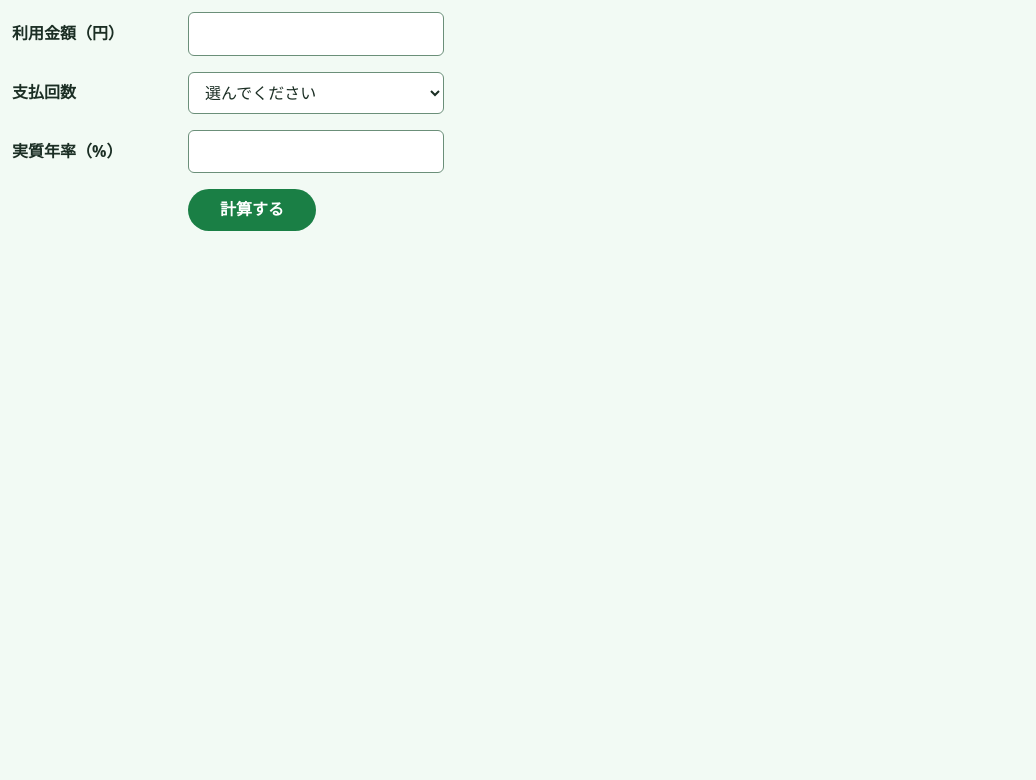
Scenario: 実行すると、要約の下に返済表を表示する
Type "100000" into the field labelled "利用金額（円）" at [316, 34], box [188,12,444,56]
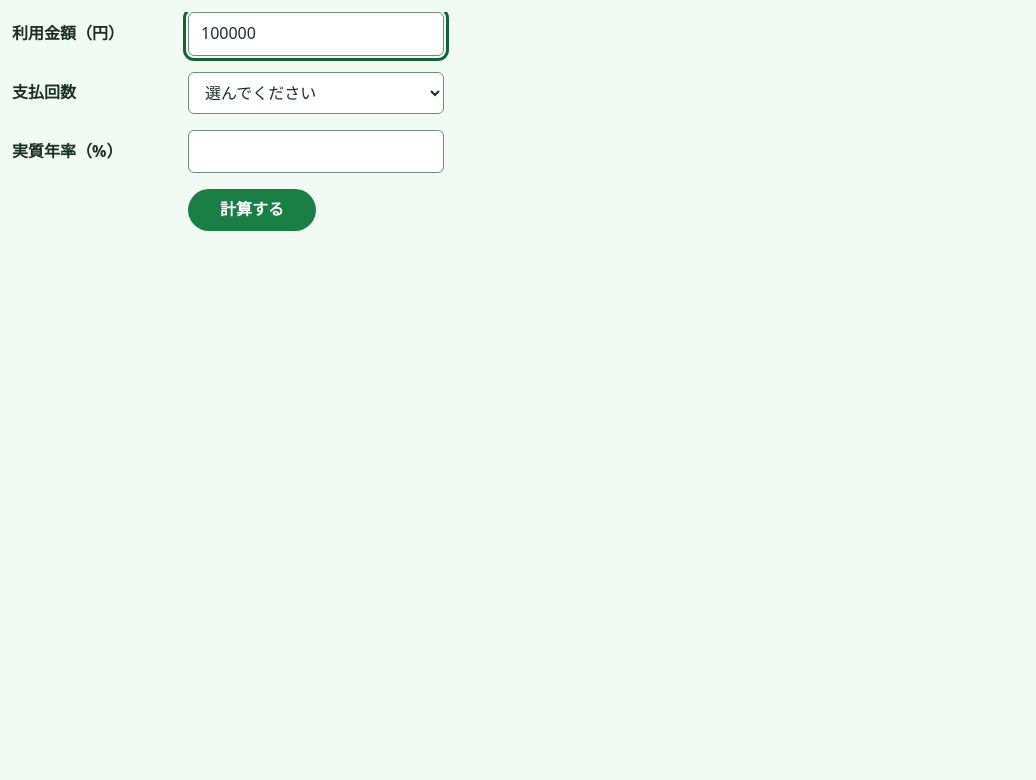
Select "12回" in the dropdown labelled "支払回数" at [316, 93], box [188,72,444,114]
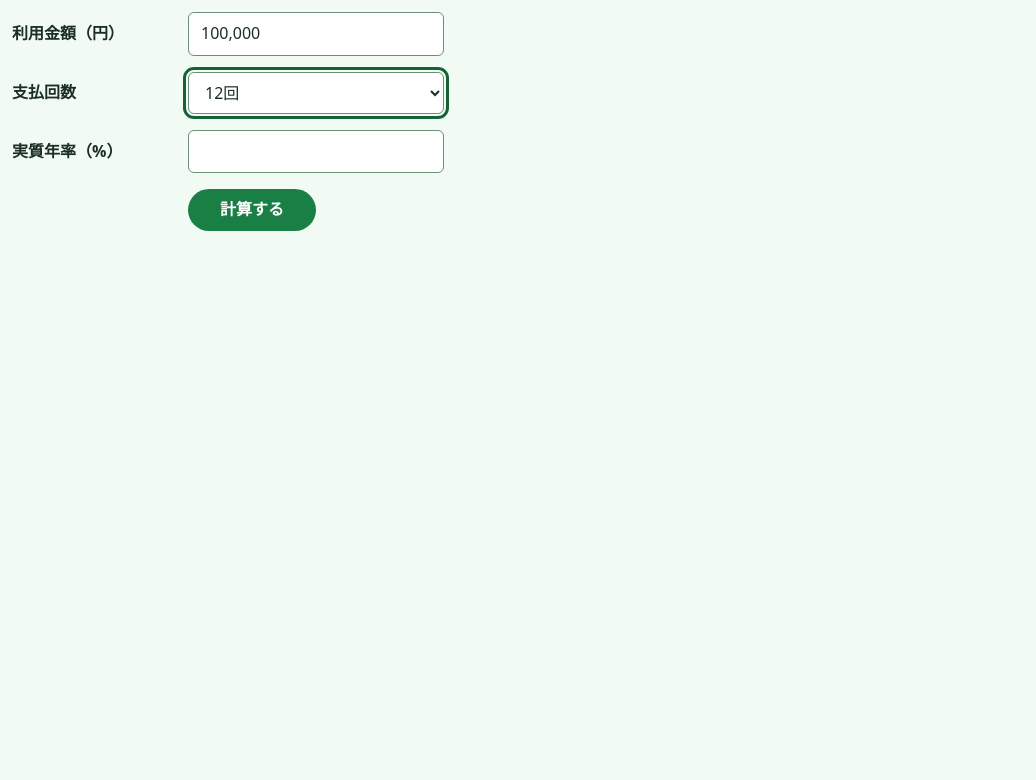
Type "15.0" into the field labelled "実質年率（%）" at [316, 151], box [188,130,444,173]
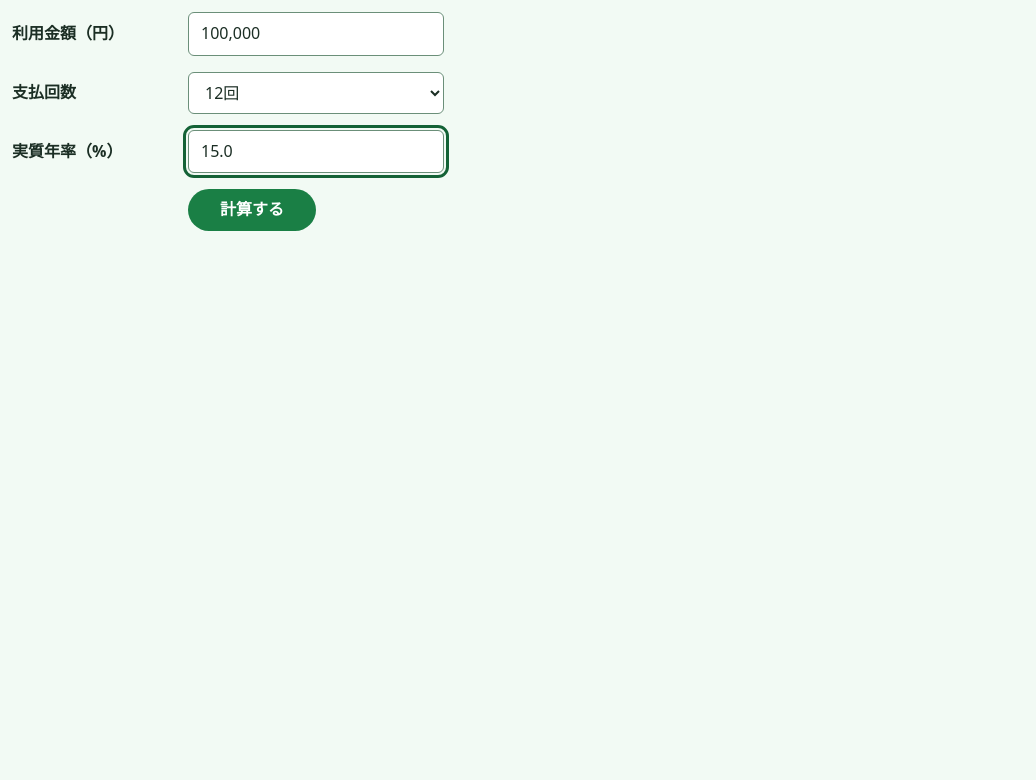
Click the button "計算する" at [252, 210], box [188,189,316,231]
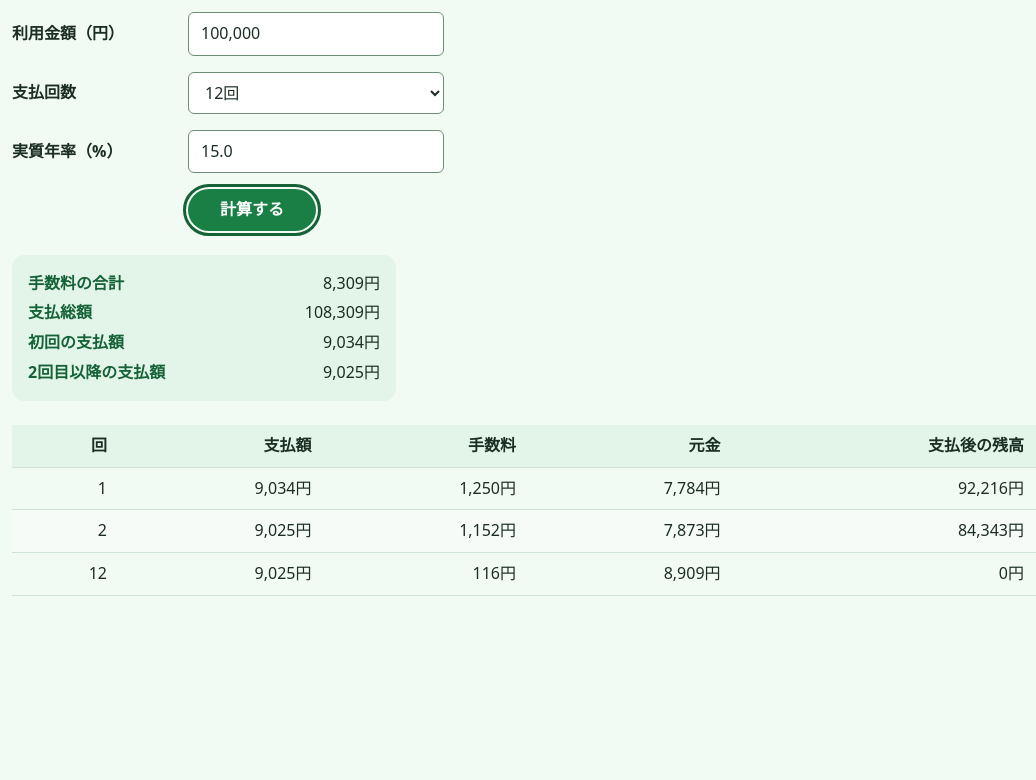
Expected: the text "92,216円" is shown, [733,467,1035,510]
Expected: the text "84,343円" is shown, [733,510,1035,552]
